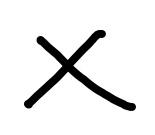mult: (24, 30, 136, 111)
